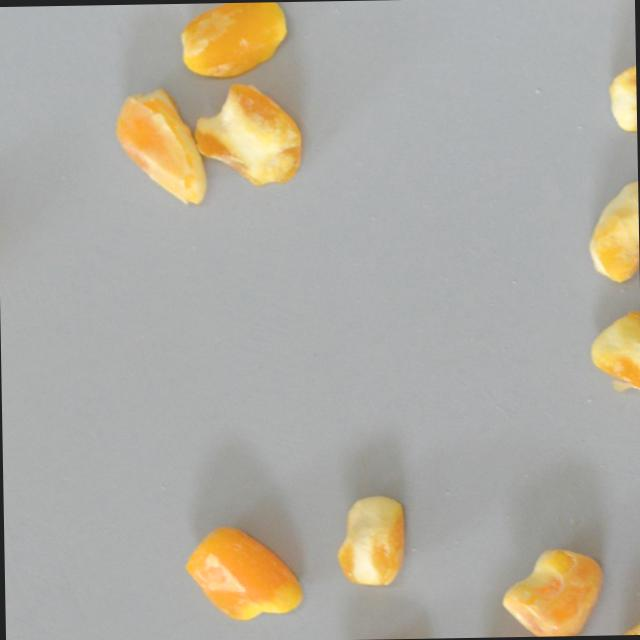pelicula: (112, 86, 213, 206), (184, 521, 301, 620), (193, 79, 302, 185), (497, 542, 607, 637), (176, 0, 291, 78), (335, 491, 406, 586), (586, 174, 639, 282), (588, 307, 640, 405), (606, 56, 637, 130), (613, 576, 640, 635)
